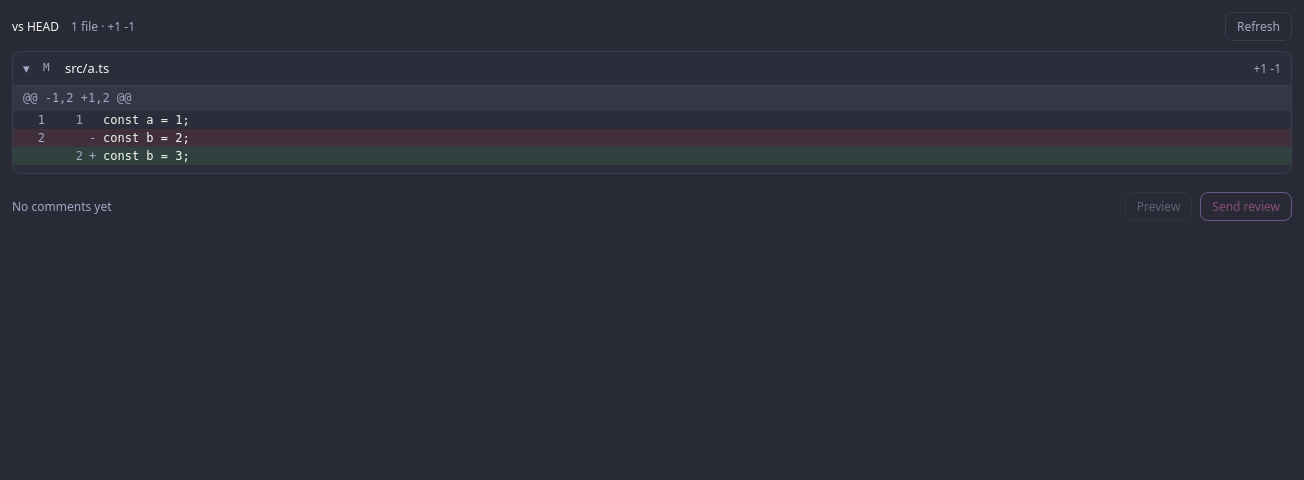
Test: ReviewPanel Send review › falls back to the preview when the clipboard refuses
Expected: the text "vs HEAD" is shown, 12,18 -> 59,35
Step 1. Click the button with aria-label "Comment on line 2" → point(146, 156), box 13,147 -> 1291,165
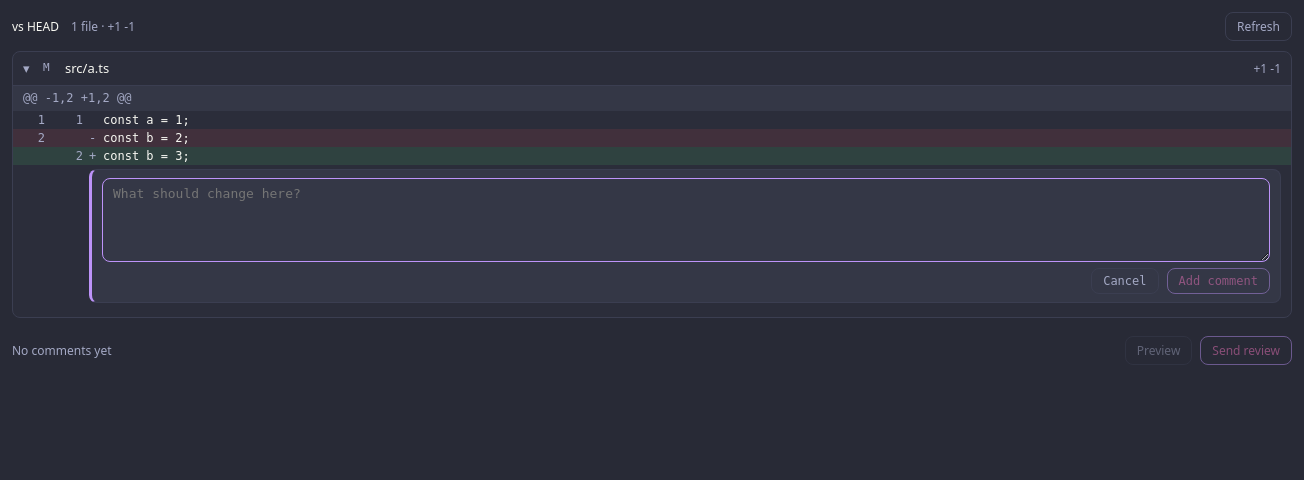
Step 2. Type "fix it" into the text box named "Comment" → point(686, 220), box 102,178 -> 1270,262
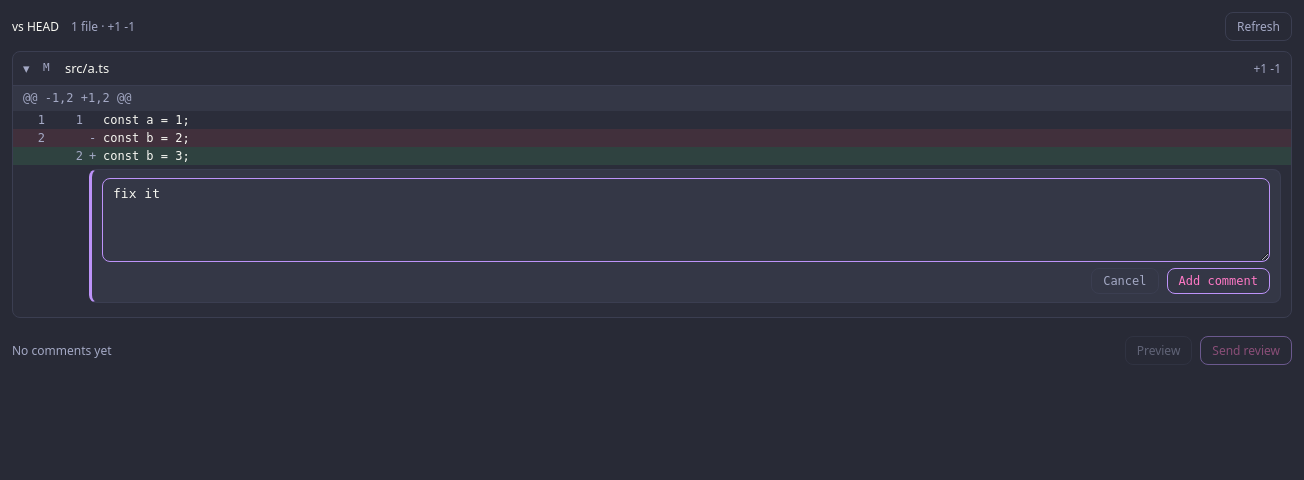
Step 3. Click the button "Add comment" → point(1218, 281), box 1166,268 -> 1270,294
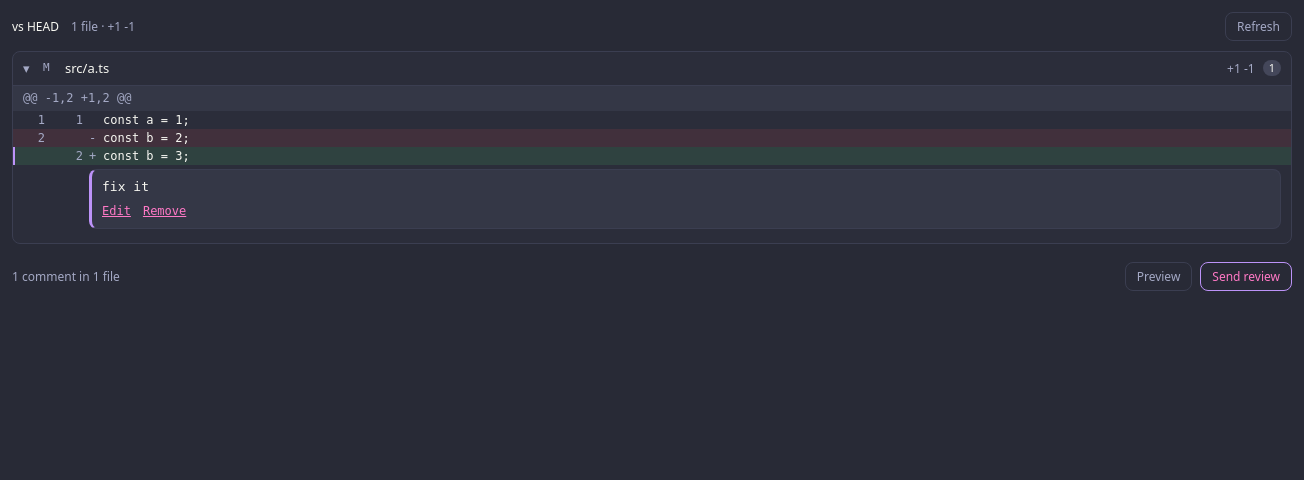
Step 4. Click the button "Send review" → point(1246, 277), box 1200,262 -> 1292,292
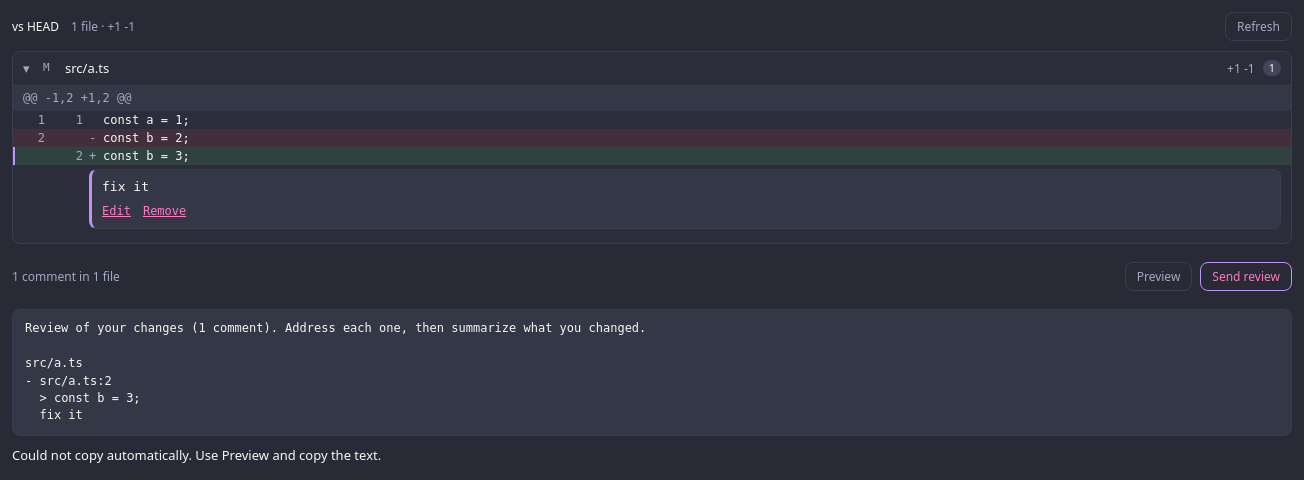
Expected: the message reads "Could not copy automatically. Use Preview and copy the text.", 12,446 -> 381,464
Expected: the text with class "rv__preview" is shown, 12,310 -> 1292,436
